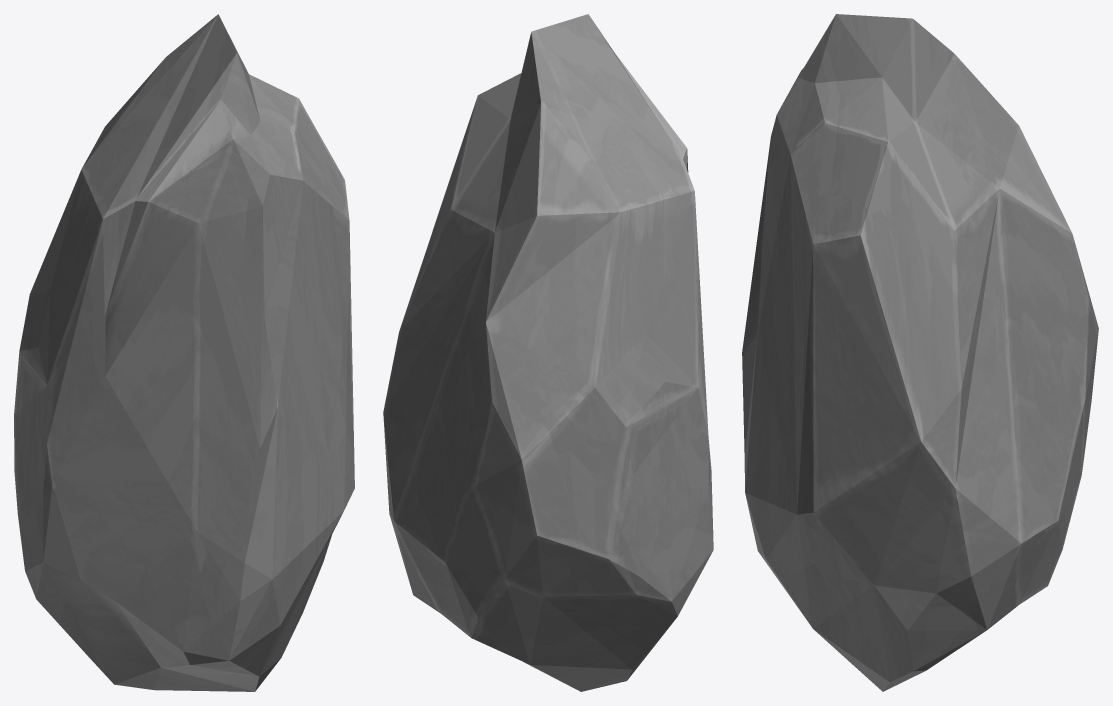
File: Model_Rock2.fbx
The picture shows the model from 3 angles, left to right: view 1: azimuth 30°, elevation 25°; view 2: azimuth 150°, elevation 25°; view 3: azimuth 270°, elevation 25°; orthographic projection. The views are drawn at different scales.
Parts seen in each view (by area): view 1: Icosphere; view 2: Icosphere; view 3: Icosphere.
Part boxes in pixels (left/top/right/bottom): Icosphere: left=14, top=14, right=354, bottom=691; Icosphere: left=383, top=14, right=713, bottom=691; Icosphere: left=742, top=14, right=1098, bottom=691.
Bounding box in the file's own units: 259 × 522 × 254.
